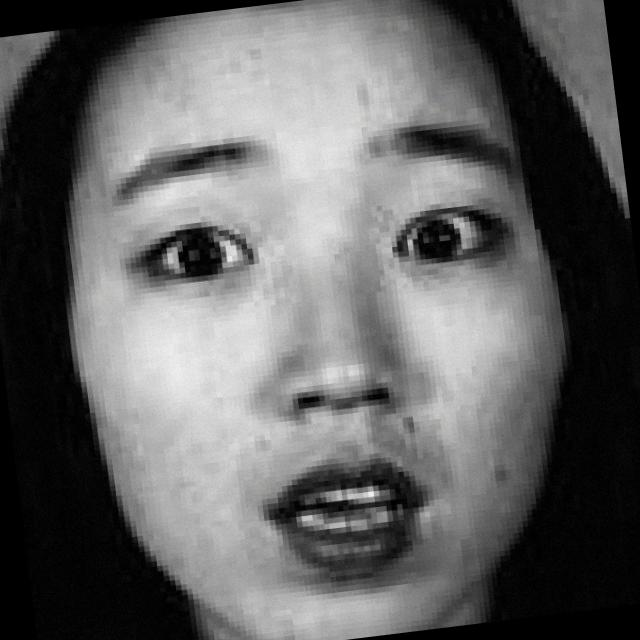surprise: (32, 0, 575, 640)
